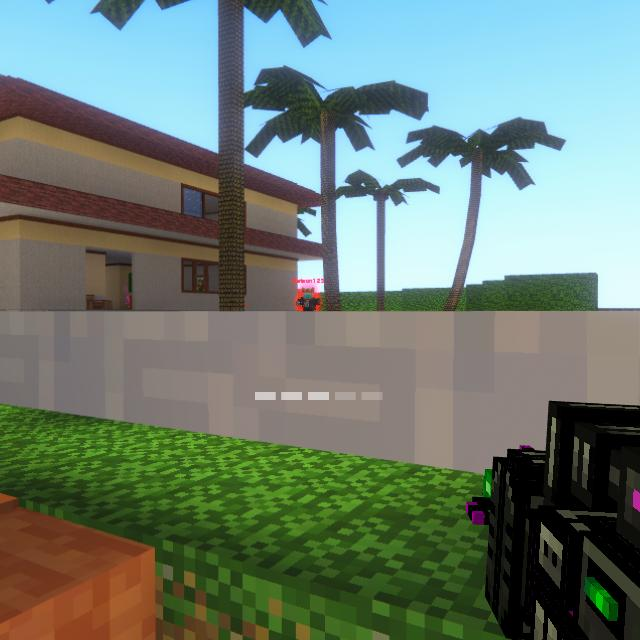Enemy: (298, 287, 321, 310)
